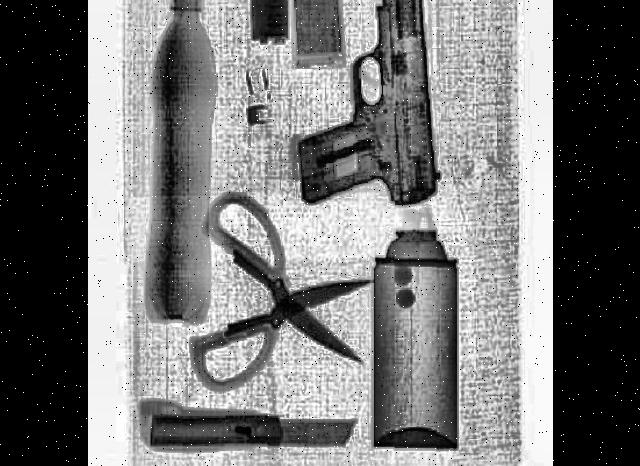Gun: (293, 0, 439, 209)
Scissors: (186, 190, 374, 394)
